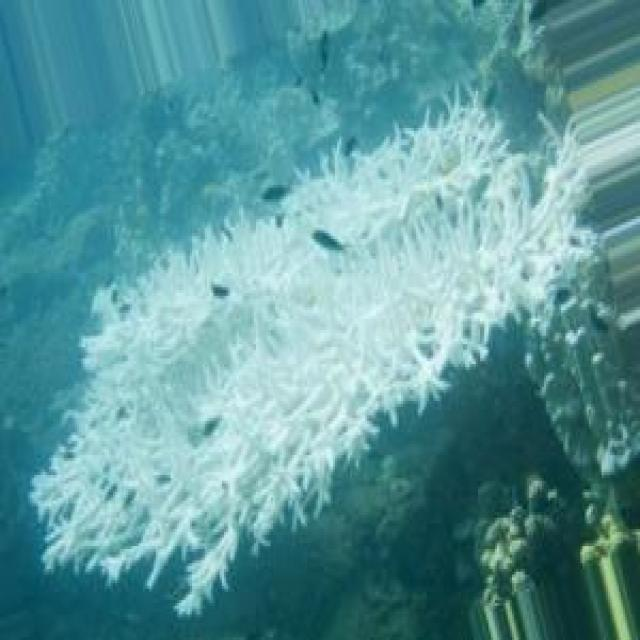bleached coral: (35, 102, 574, 614)
